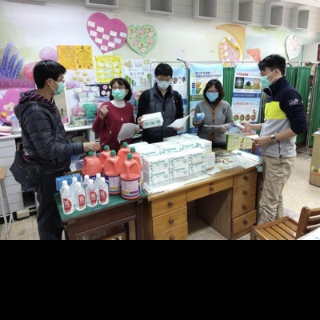with_mask: (51, 76, 65, 96), (156, 76, 172, 91), (111, 84, 126, 100), (259, 71, 272, 88), (204, 88, 219, 102)
